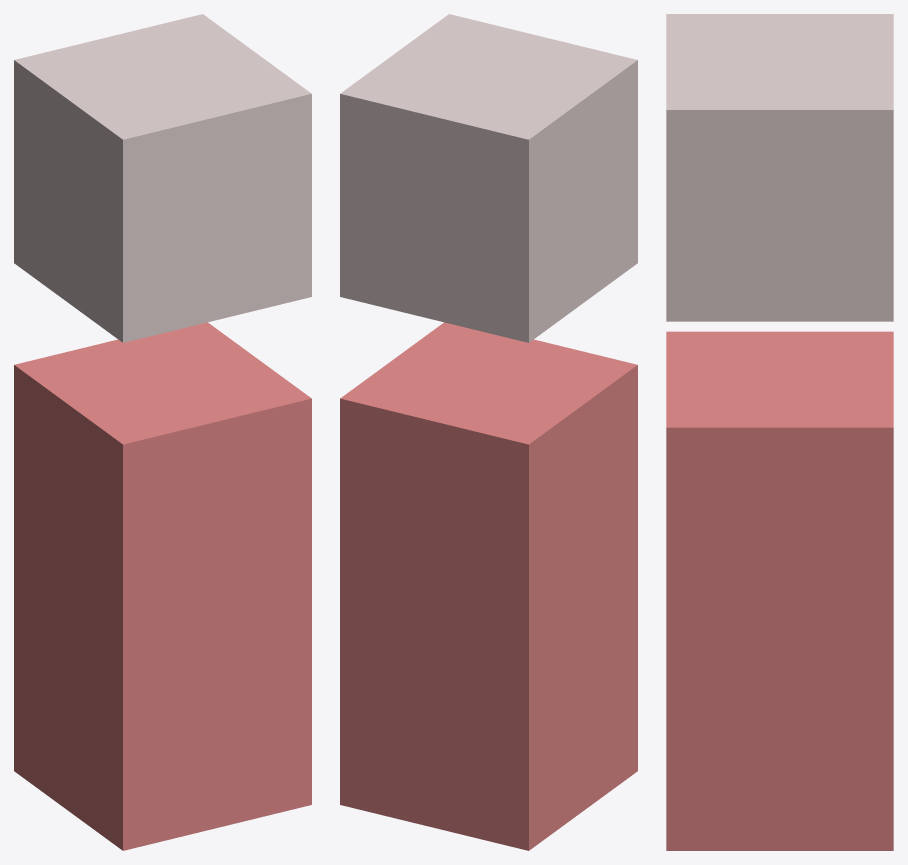
File: IcecreamDad.fbx
The picture shows the model from 3 angles, left to right: view 1: azimuth 30°, elevation 25°; view 2: azimuth 150°, elevation 25°; view 3: azimuth 270°, elevation 25°; orthographic projection. The views are drawn at different scales.
Parts seen in each view (by area): view 1: IcecreamDad; view 2: IcecreamDad; view 3: IcecreamDad.
Part boxes in pixels (x1,y1,x2,y2): IcecreamDad: (14,14,311,850); IcecreamDad: (340,14,637,850); IcecreamDad: (666,14,893,850).
Bounding box in the file's own units: 50 × 180 × 50.
